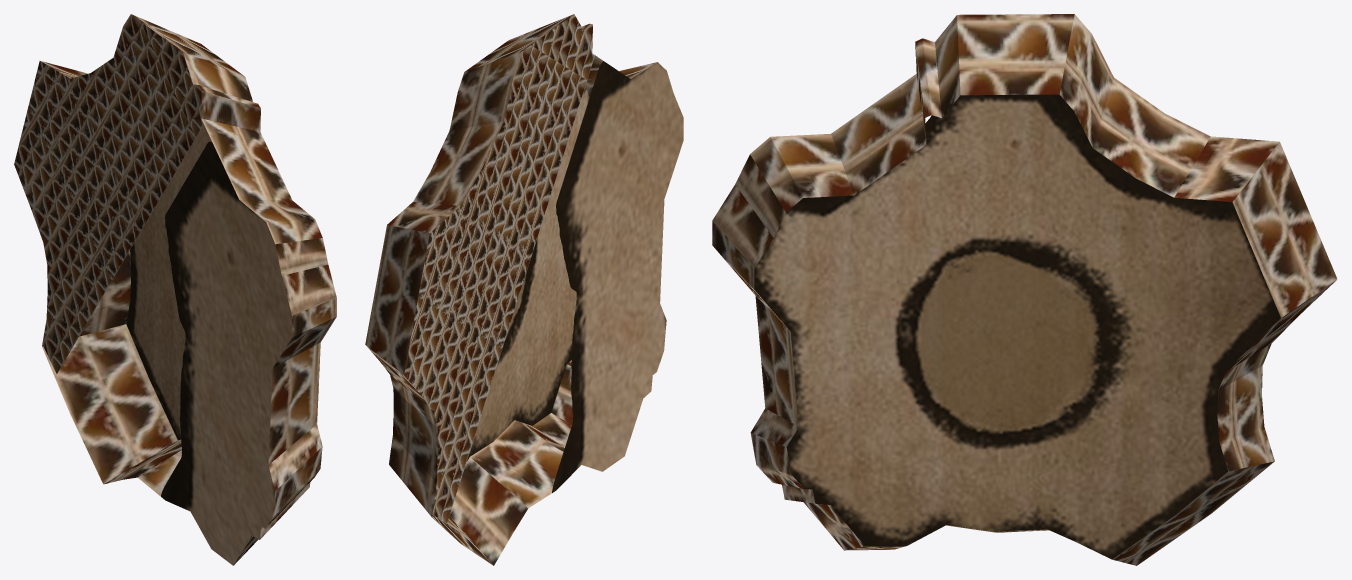
The model's file is Volume_Gear.fbx.
3 views of the same model, side by side, from view 1: azimuth 30°, elevation 25°; view 2: azimuth 150°, elevation 25°; view 3: azimuth 270°, elevation 25° (orthographic). The views are drawn at different scales.
Parts seen in each view (by area): view 1: Plane.012; view 2: Plane.012; view 3: Plane.012.
Part boxes in pixels (x1,y1,x2,y2): Plane.012: (14,14,336,565); Plane.012: (365,14,683,565); Plane.012: (712,14,1337,565).
Size of the model in its own units: 2.55 by 18.79 by 19.29.
Materials: 1 (1 with a texture image).
